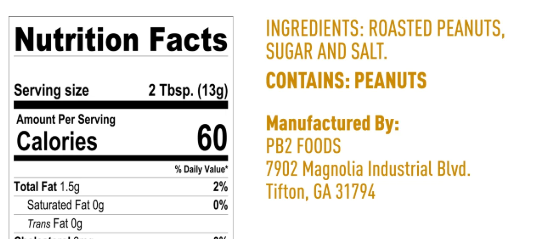l: (262, 15, 516, 61)
